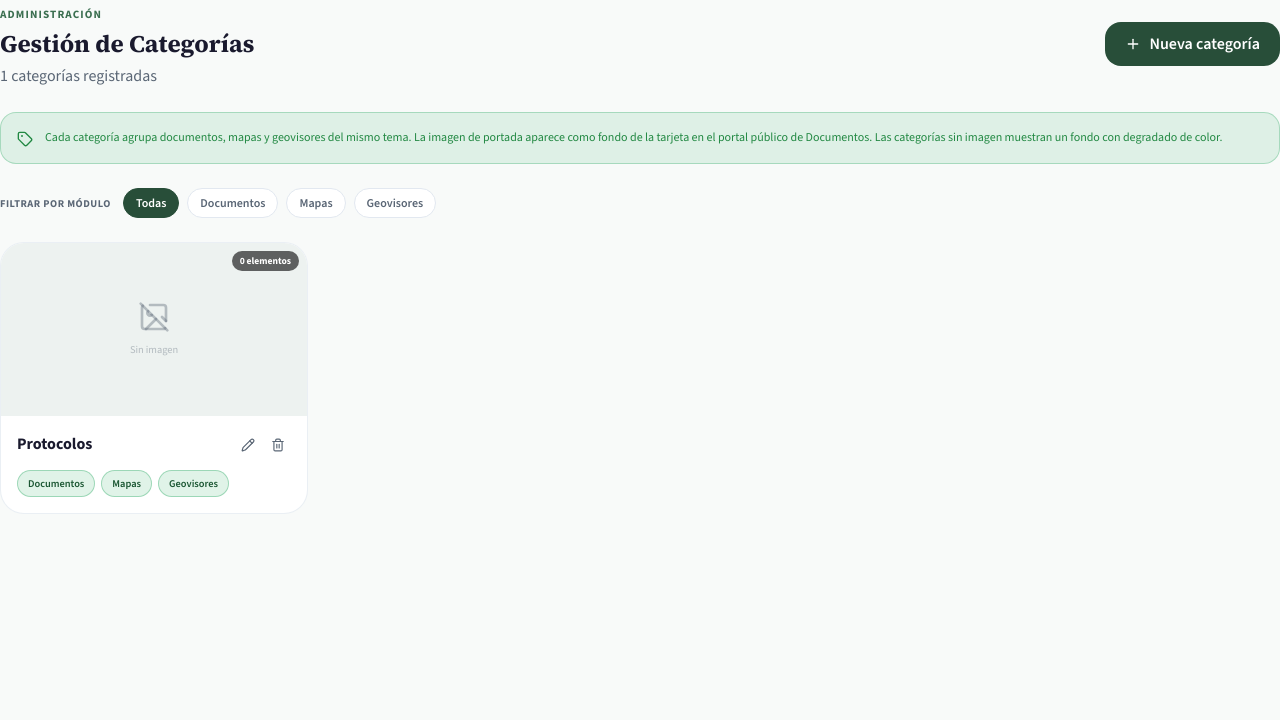
Test: GestionCategorias — editar categoría › un error del servidor (nombre duplicado) se muestra sin cerrar el modal
Step 1. Click the button titled "Editar categoría" → (248, 444), box 235,432 -> 261,458
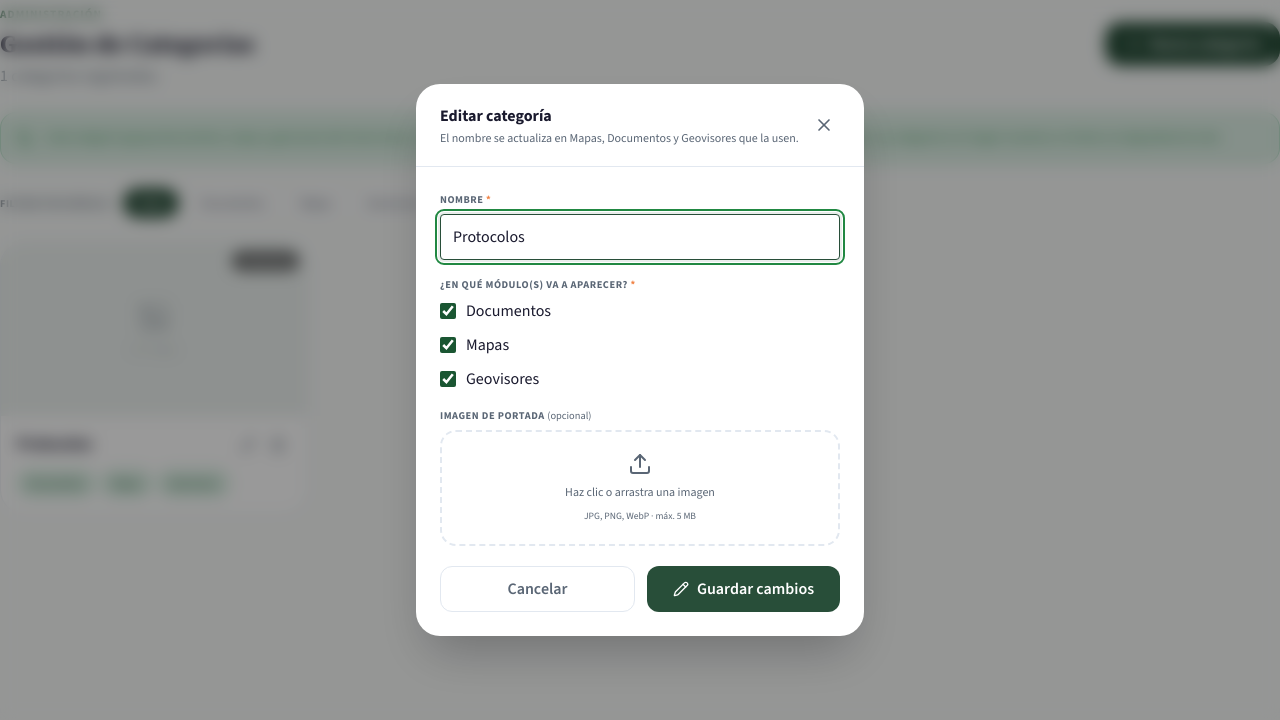
Step 2. Replace the text in the field labelled "Nombre *" with "Hidrología" → (640, 237), box 440,214 -> 840,260
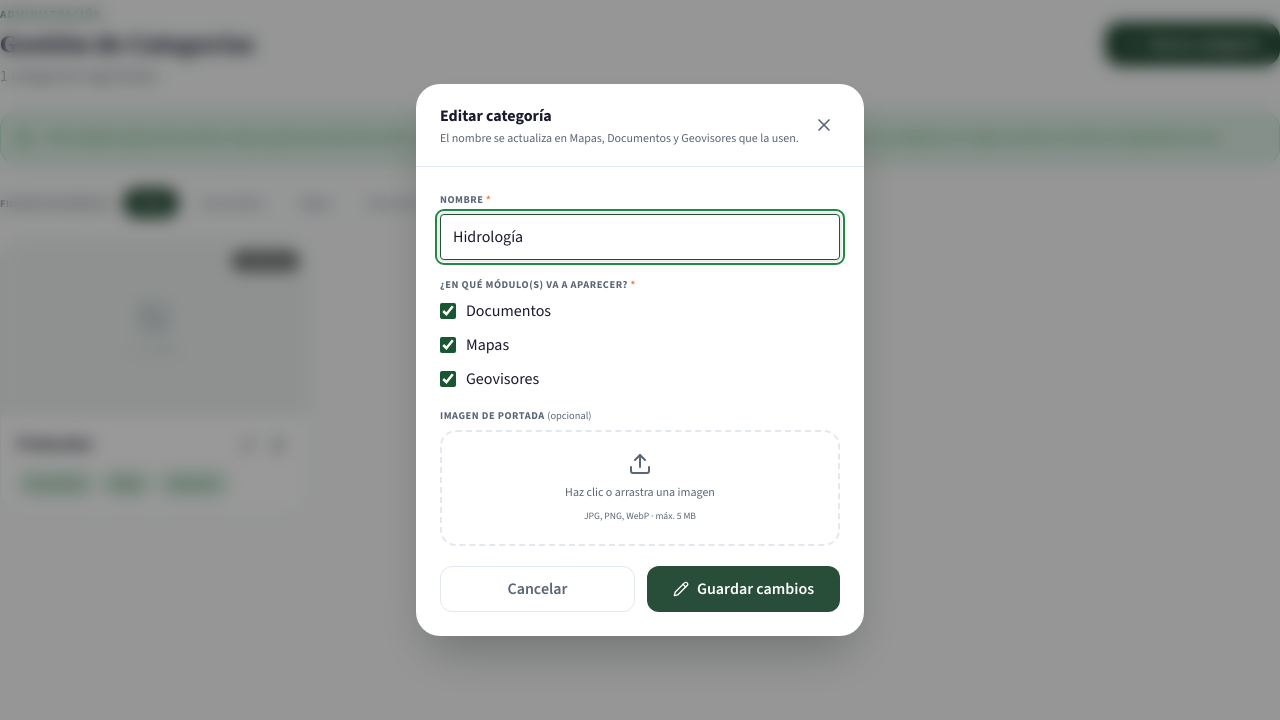
Step 3. Click the button "Guardar cambios" → (744, 589), box 647,566 -> 840,612
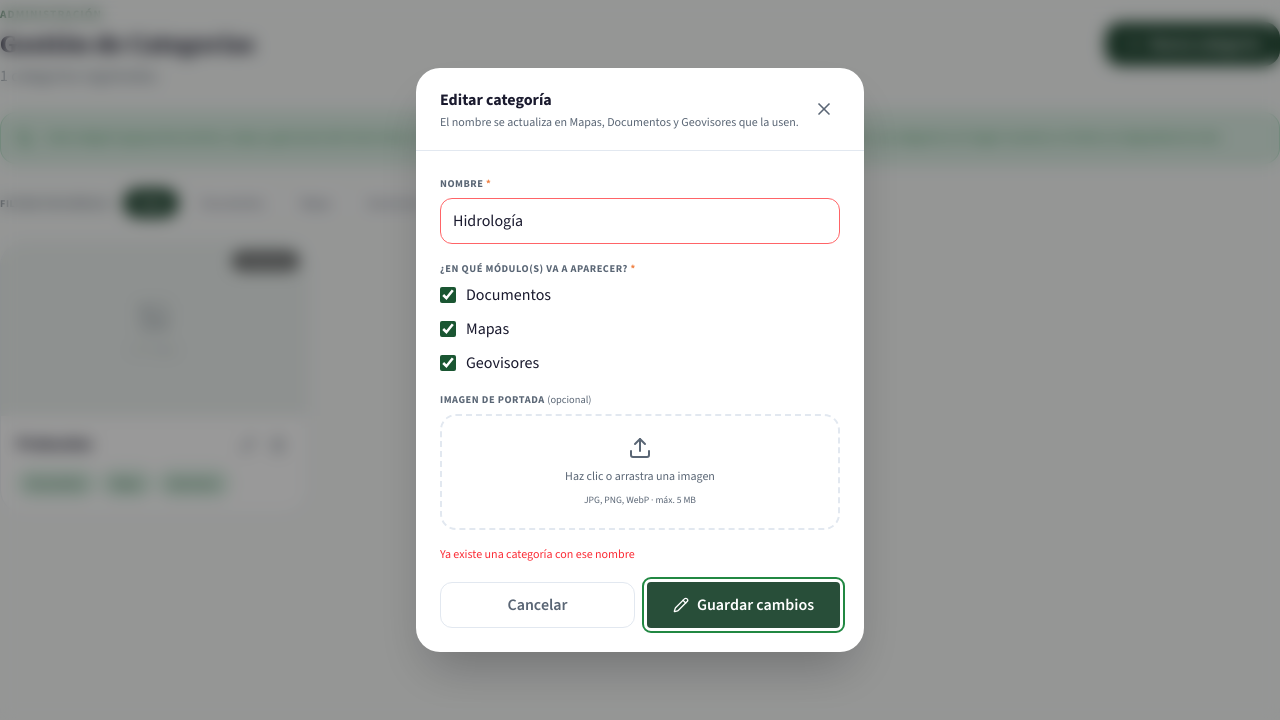
expect the text "Ya existe una categoría con ese nombre" is shown: met, box 440,546 -> 635,562
